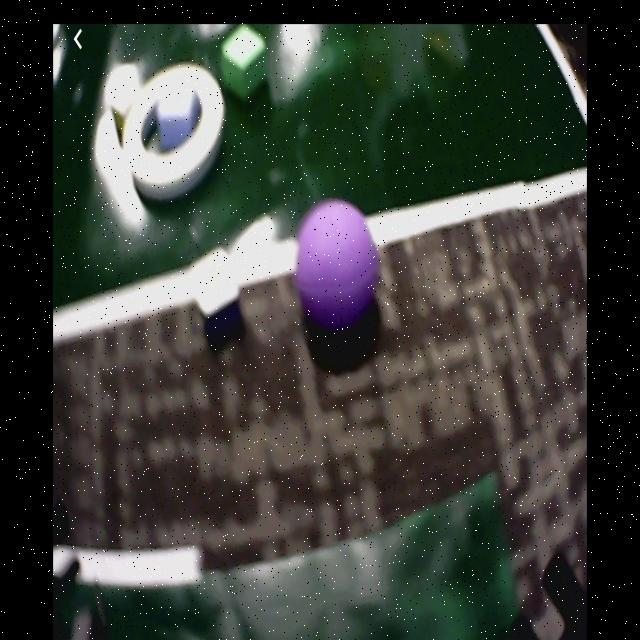ball: (297, 201, 379, 319)
